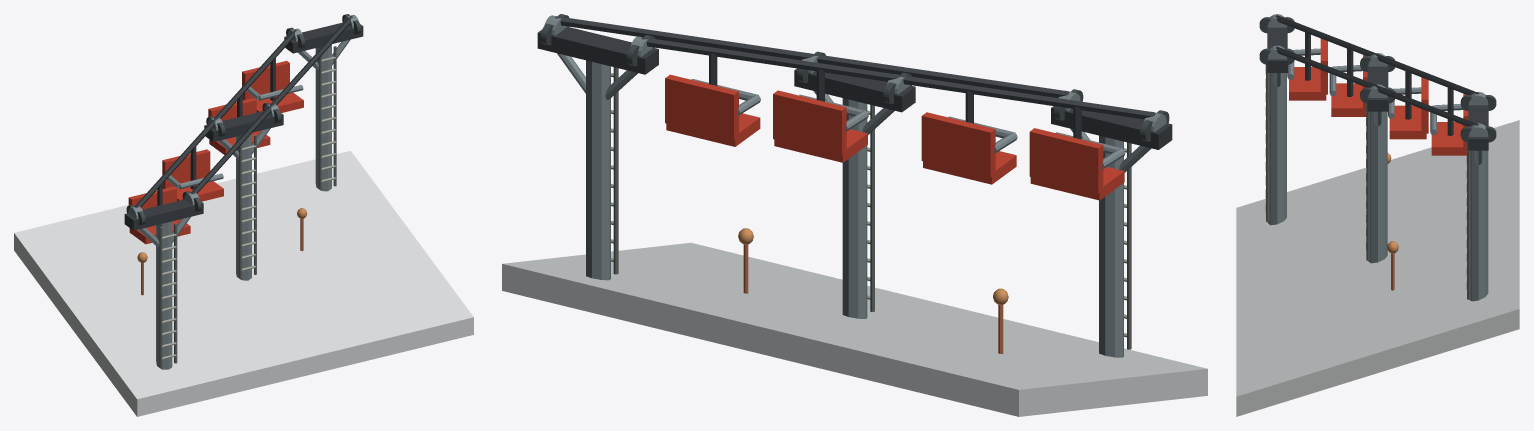
File: ski_lift.glb
3 views of the same model, side by side, from view 1: azimuth 30°, elevation 25°; view 2: azimuth 150°, elevation 25°; view 3: azimuth 270°, elevation 25° (orthographic). The views are drawn at different scales.
Parts seen in each view (by area): view 1: SkiLift; view 2: SkiLift; view 3: SkiLift.
Boxes of the visible parts, x1,y1,x2,y2 form: SkiLift: (14, 14, 473, 416); SkiLift: (502, 14, 1207, 416); SkiLift: (1236, 14, 1519, 416).
Size of the model in its own units: 1 by 0.699 by 0.6333.
